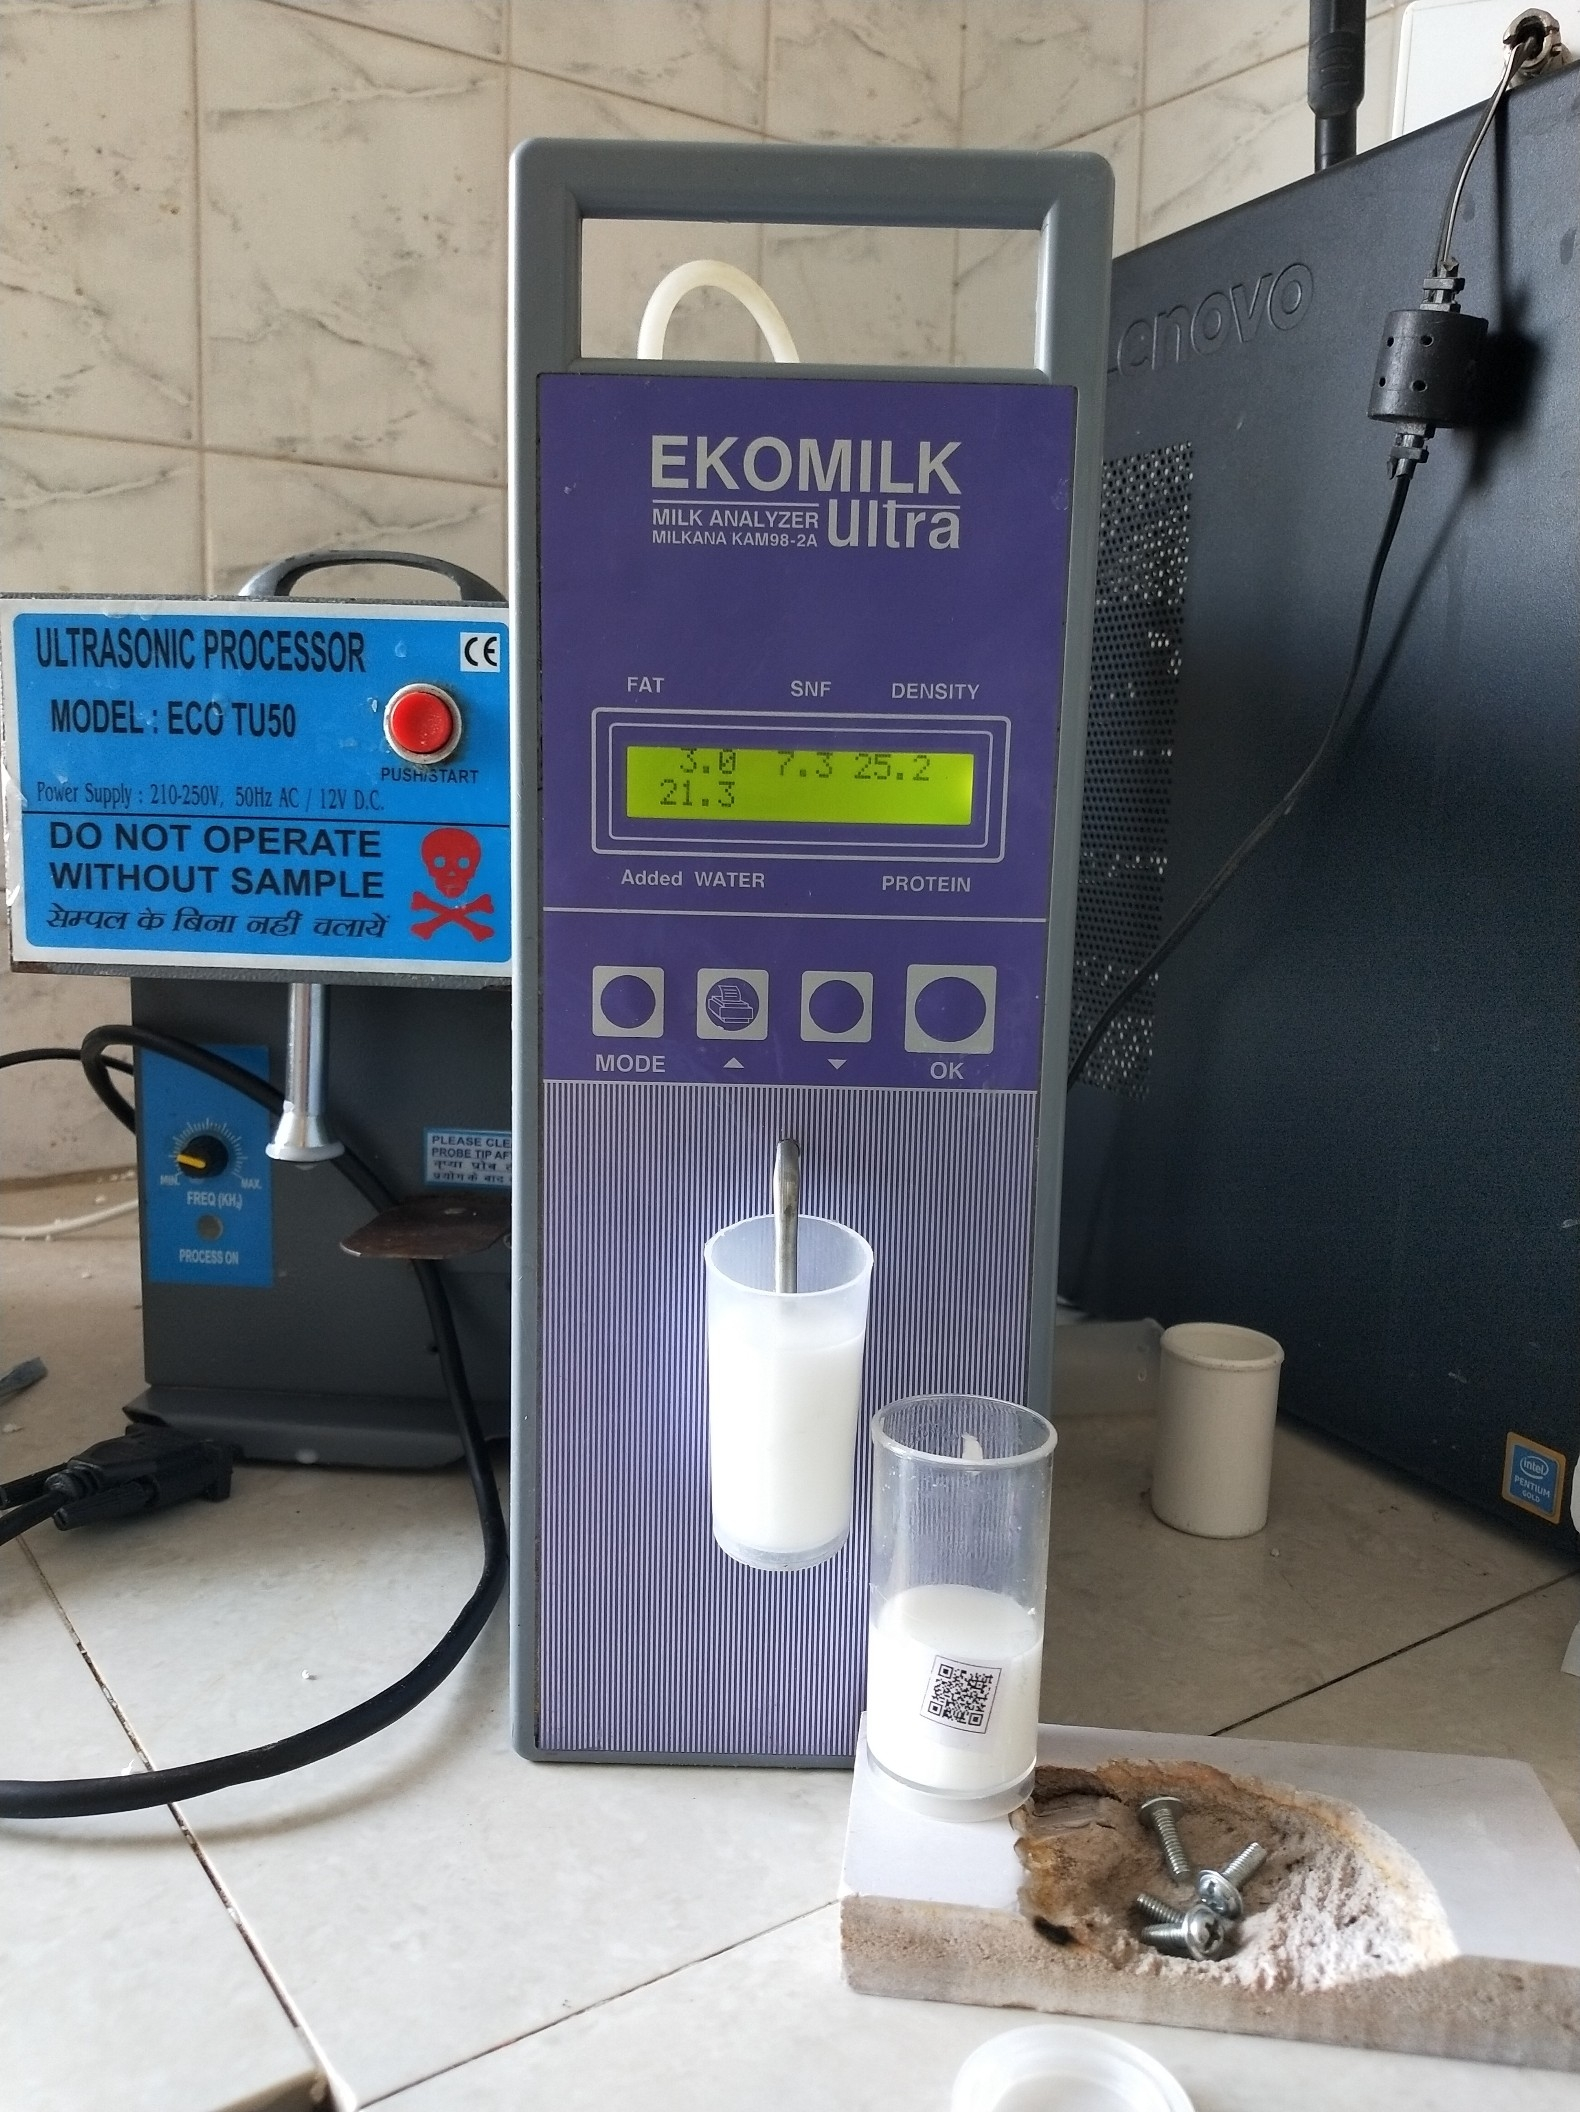lcd: (597, 727, 1026, 863)
qr: (909, 1646, 1022, 1735)
